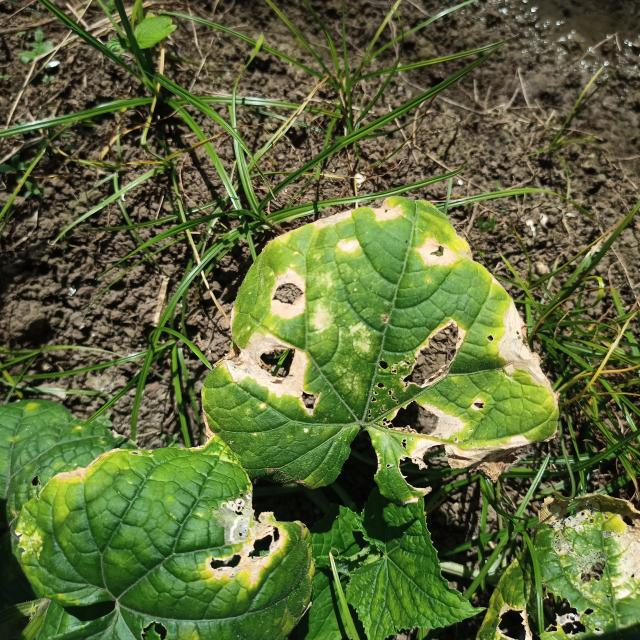disease_cucumber: (228, 200, 554, 467), (203, 504, 295, 591)
